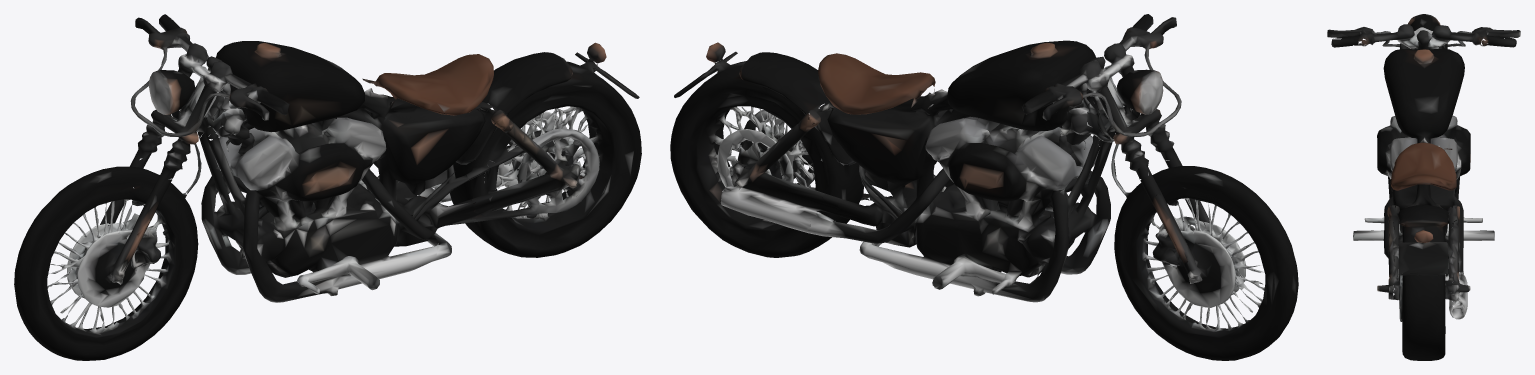
Rendered from bobber_lite.glb.
3 views of the same model, side by side, from view 1: azimuth 30°, elevation 25°; view 2: azimuth 150°, elevation 25°; view 3: azimuth 270°, elevation 25° (orthographic). The views are drawn at different scales.
Visible parts, largest first — view 1: body, rearWheel, frontWheel, fork; view 2: body, rearWheel, frontWheel, fork; view 3: body, rearWheel, fork.
Boxes of the visible parts, <box> form: body: <box>165,14,606,302</box>; rearWheel: <box>431,52,641,257</box>; frontWheel: <box>14,153,198,360</box>; fork: <box>100,14,288,265</box>; body: <box>706,14,1146,302</box>; rearWheel: <box>670,51,877,257</box>; frontWheel: <box>1114,154,1298,360</box>; fork: <box>1023,14,1209,263</box>; body: <box>1331,38,1516,319</box>; rearWheel: <box>1387,205,1466,360</box>; fork: <box>1327,14,1520,49</box>.
Bounding box in the file's own units: 1.89 × 0.8157 × 0.6889.
